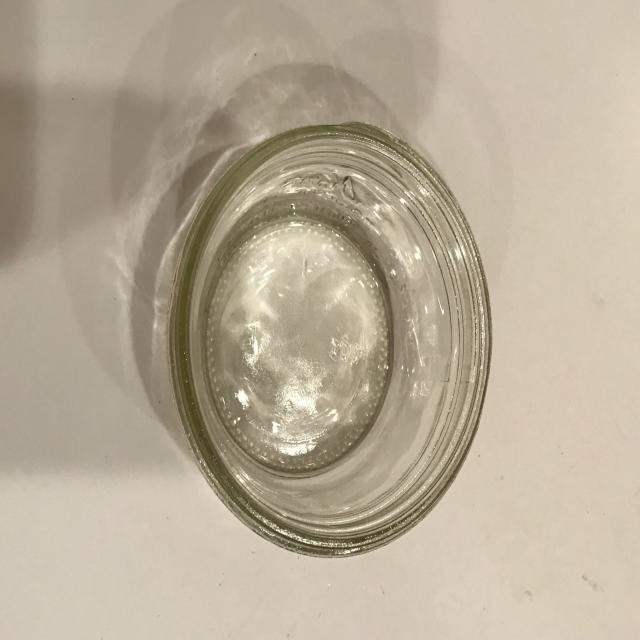glass: (168, 121, 493, 561)
